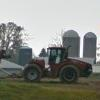Tractor: (22, 40, 94, 92)
